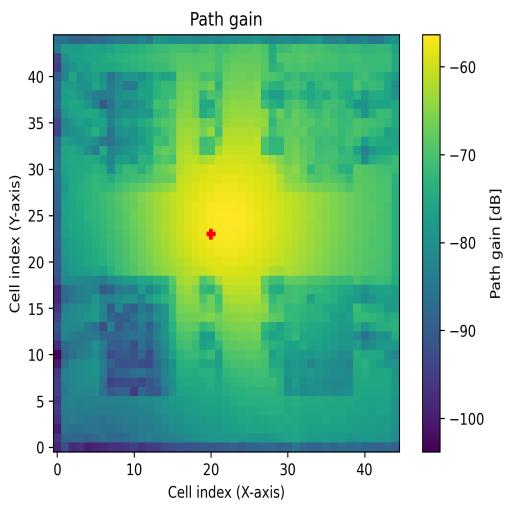Concrete: (284, 70, 354, 182)
Glass: (101, 72, 176, 181)
Metal: (283, 277, 353, 395)
Wood: (100, 276, 177, 397)
